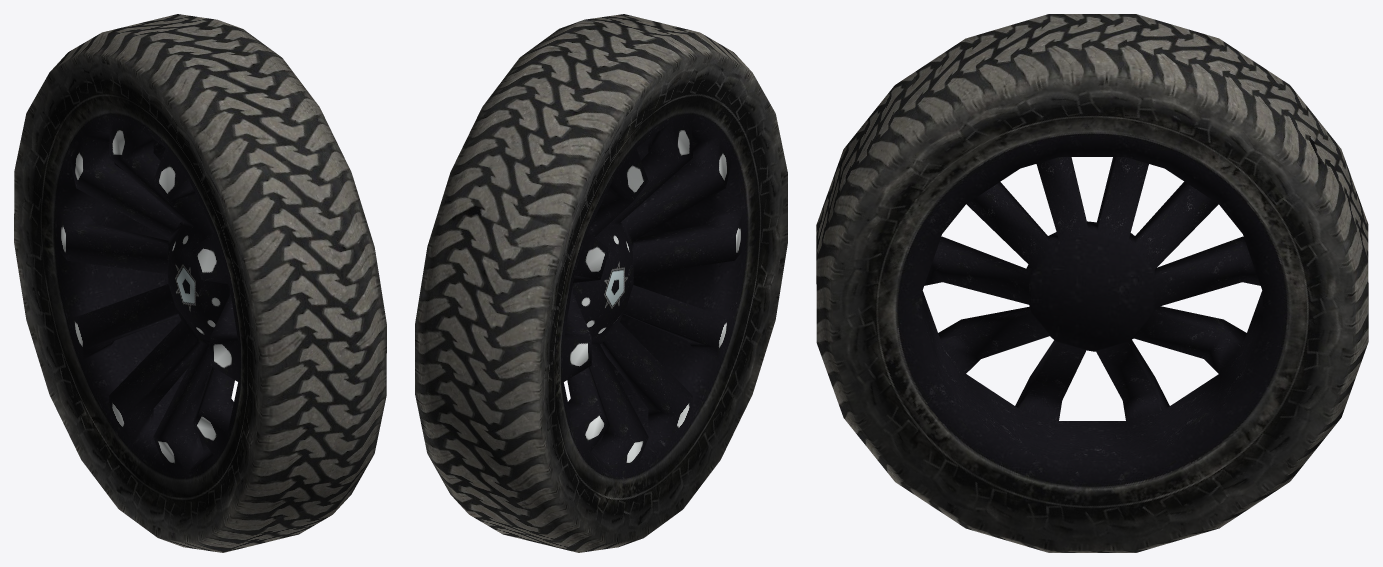
Rendered from Wheel1.gltf.
3 views of the same model, side by side, from view 1: azimuth 30°, elevation 25°; view 2: azimuth 150°, elevation 25°; view 3: azimuth 270°, elevation 25° (orthographic). The views are drawn at different scales.
Visible parts, largest first — view 1: wheel Low_0; view 2: wheel Low_0; view 3: wheel Low_0.
Part boxes in pixels (left/top/right/bottom): wheel Low_0: left=14, top=14, right=386, bottom=552; wheel Low_0: left=415, top=14, right=787, bottom=552; wheel Low_0: left=816, top=14, right=1368, bottom=552.
Bounding box in the file's own units: 0.6861 × 2.52 × 2.52.
Materials: 1 (1 with a texture image).
